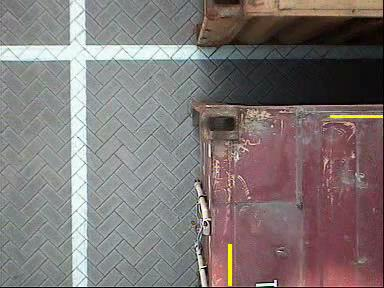groundmarker_2: (86, 21, 183, 84), (89, 145, 185, 207)
